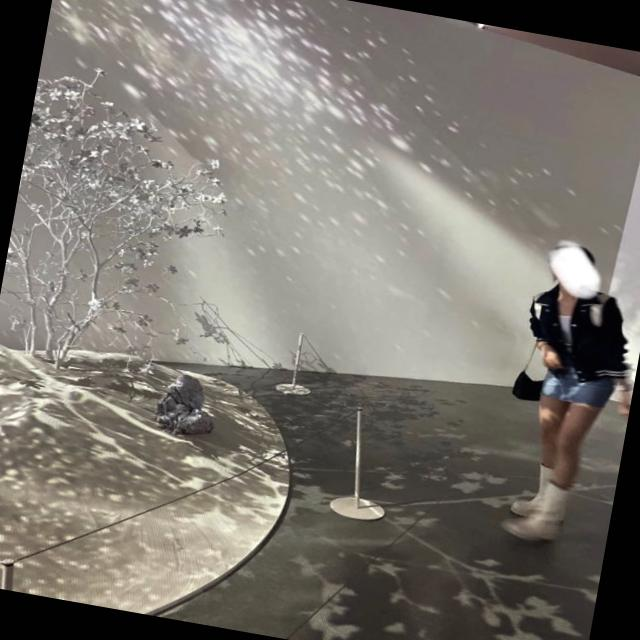jacket: (518, 276, 640, 386)
skirt: (538, 359, 618, 414)
